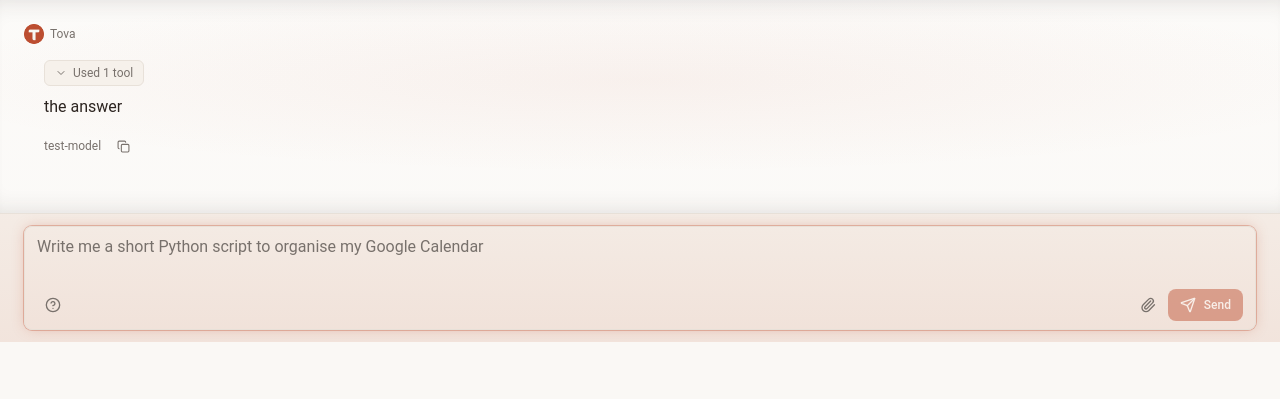
Tool-use summary box (issue #196) › collapses chips behind a "Used N tools" line on a settled turn
This screenshot has width=1280, height=399.
Click the button with test id "tool-summary-toggle" at (94, 73), box [44,60,144,86]
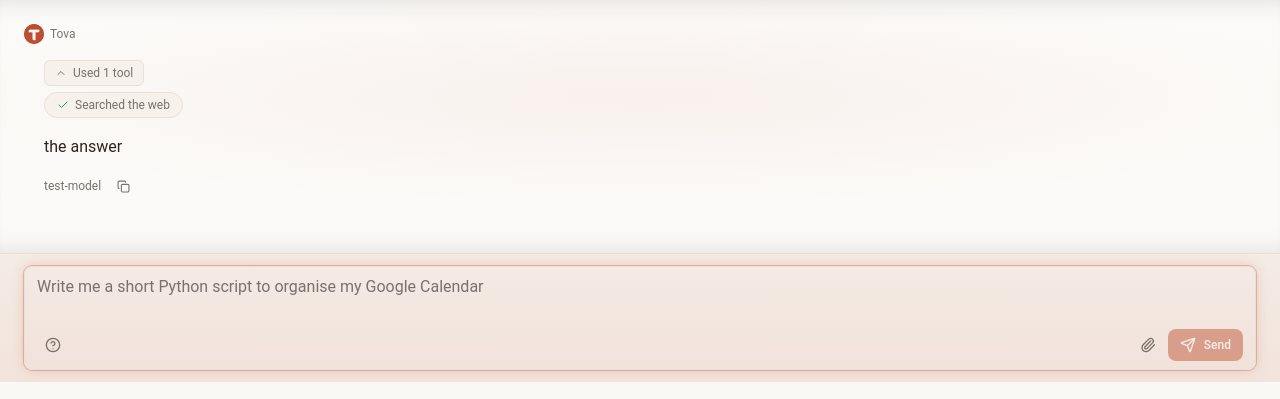
Check: the element with test id "tool-chip-web_search" is shown, box [44,92,183,118]
